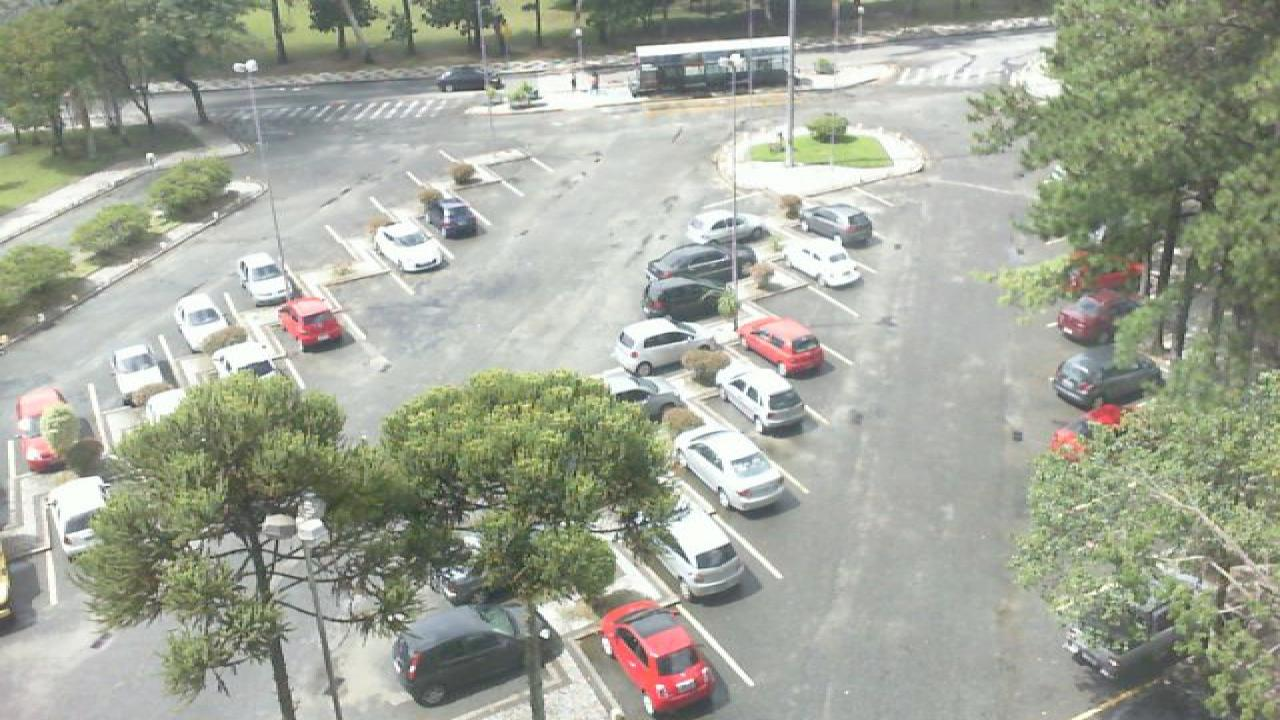Car: (390, 603, 562, 707), (598, 598, 716, 720), (670, 426, 788, 513), (648, 513, 752, 597), (1050, 348, 1164, 410), (714, 366, 810, 437), (734, 315, 828, 378), (614, 318, 714, 377), (12, 386, 76, 474), (46, 474, 114, 556), (1054, 287, 1150, 345), (640, 274, 750, 324), (600, 369, 690, 424), (780, 235, 866, 288), (106, 343, 176, 407), (646, 242, 756, 282), (172, 290, 238, 354), (1050, 402, 1124, 459), (370, 220, 448, 274), (276, 296, 346, 352), (210, 340, 290, 389), (796, 202, 874, 246), (236, 250, 298, 304), (684, 210, 774, 246), (432, 195, 482, 240), (436, 66, 492, 93)
